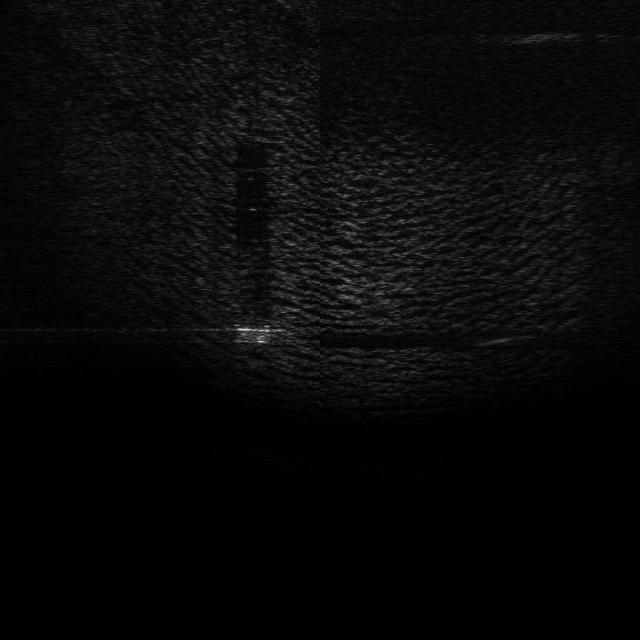cube: (233, 321, 272, 349)
